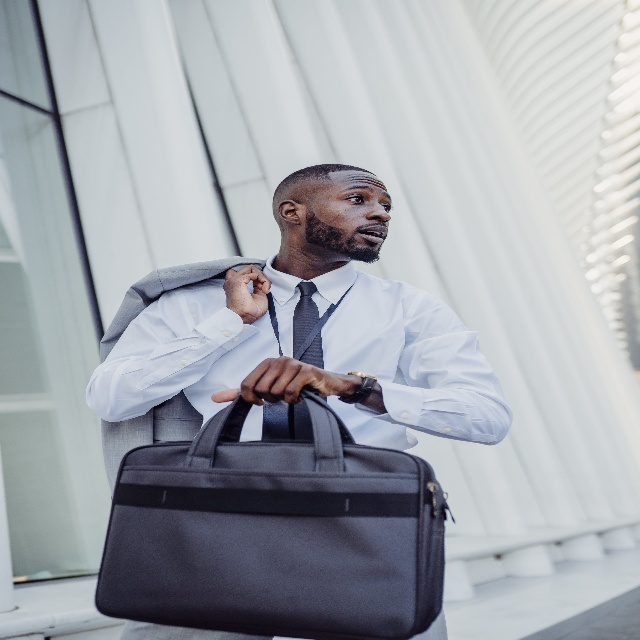Sin_guantes: (211, 354, 344, 405), (222, 263, 272, 324)
